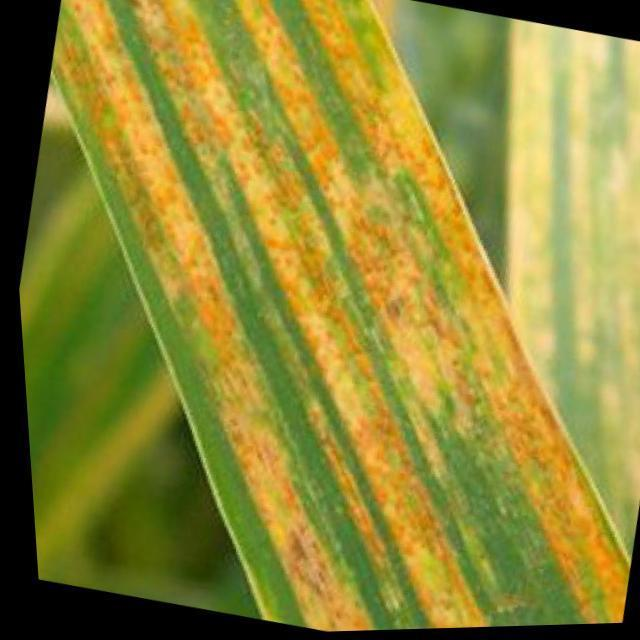Yellow Rust: (46, 0, 621, 632)
